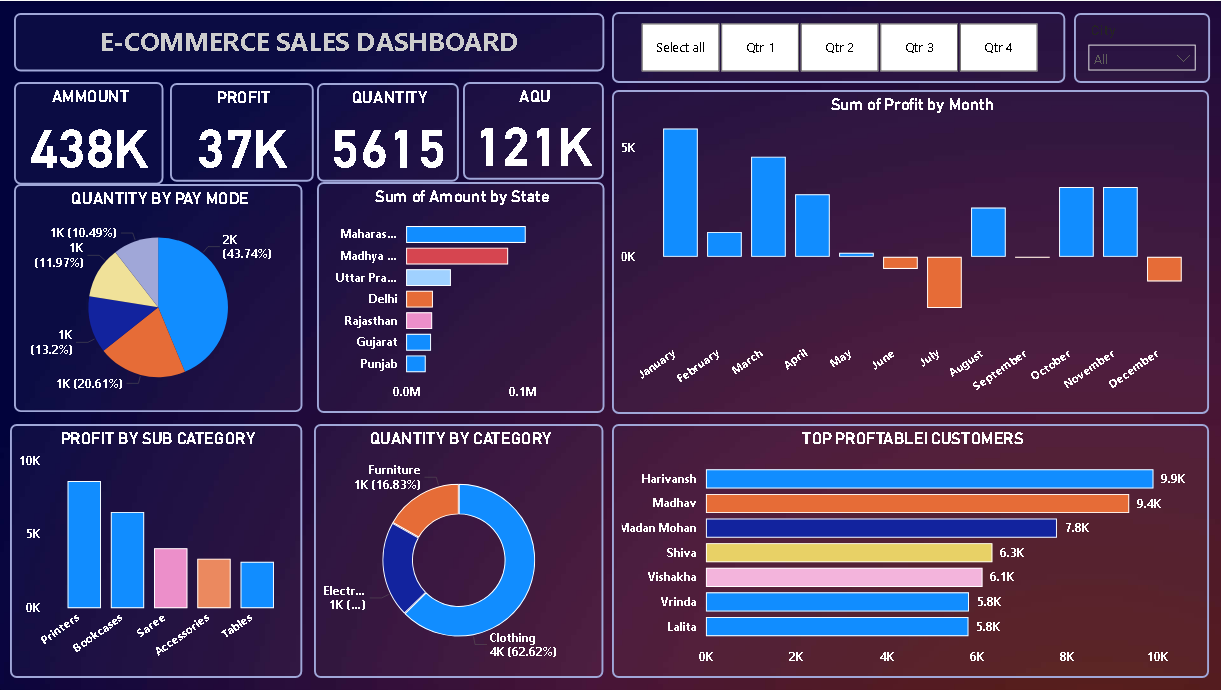

This screenshot's page, from the dashboard's own definition file:
{"tool":"powerbi","page":{"name":"Page 1","canvas":[1280,720],"ordinal":0},"visuals":[{"type":"clusteredColumnChart","title":"PROFIT BY SUB CATEGORY","fields":{"Y":["Sum(Details.Profit)"],"Category":["Details.Sub-Category"]},"box":[11.5,441.1,312.4,265.2],"z":0},{"type":"donutChart","title":"QUANTITY BY  CATEGORY ","fields":{"Y":["Sum(Details.Quantity)"],"Category":["Details.Category"]},"box":[328.9,441.1,302.2,265.2],"z":1000},{"type":"pieChart","title":"QUANTITY BY  PAY MODE","fields":{"Category":["Details.PaymentMode"],"Y":["Sum(Details.Quantity)"]},"box":[15.3,193.8,308.5,238.4],"z":2000},{"type":"clusteredBarChart","fields":{"Category":["Orders.State"],"Y":["Sum(Details.Amount)"]},"box":[331.5,192.5,299.6,241],"z":3000},{"type":"barChart","title":"TOP PROFTABLEI     CUSTOMERS ","fields":{"Category":["Orders.CustomerName"],"Y":["Sum(Details.Amount)"]},"box":[640,441.1,623.4,265.2],"z":4000},{"type":"card","title":"AMMOUNT","fields":{"Values":["Sum(Details.Amount)"]},"box":[15.3,84.1,155.5,102],"z":5000},{"type":"card","title":"PROFIT","fields":{"Values":["Sum(Details.Profit)"]},"box":[177.2,85.4,150.4,100.7],"z":6000},{"type":"card","title":"QUANTITY","fields":{"Values":["Sum(Details.Quantity)"]},"box":[332.7,84.1,147.9,102],"z":7000},{"type":"card","title":"AOV","fields":{"Values":["Sum(Details.Column)"]},"box":[484.5,84.1,146.6,102],"z":8000},{"type":"clusteredColumnChart","fields":{"Y":["Sum(Details.Profit)"],"Category":["Orders.Order Date.Variation.Date Hierarchy.Month"]},"box":[640,93.1,623.4,337.8],"z":9000},{"type":"slicer","fields":{"Values":["Orders.City"]},"box":[1121.9,12.7,141.5,72.7],"z":10000},{"type":"slicer","fields":{"Values":["Orders.Order Date.Variation.Date Hierarchy.Quarter"]},"box":[640,11.5,473,73.9],"z":11000},{"type":"textbox","box":[15.3,12.7,615.8,61.2],"z":12000}]}

Visuals, with their boxes in screenshot pixels (x1, y1, x2, y2), scaled from the page's 1280x720 canvas onto the 1221x690 screenshot:
"PROFIT BY SUB CATEGORY" clusteredColumnChart: 11, 423, 309, 677
"QUANTITY BY  CATEGORY " donutChart: 314, 423, 602, 677
"QUANTITY BY  PAY MODE" pieChart: 15, 186, 309, 414
clusteredBarChart - Orders.State x Sum(Details.Amount): 316, 184, 602, 415
"TOP PROFTABLEI     CUSTOMERS " barChart: 610, 423, 1205, 677
"AMMOUNT" card: 15, 81, 163, 178
"PROFIT" card: 169, 82, 312, 178
"QUANTITY" card: 317, 81, 458, 178
"AOV" card: 462, 81, 602, 178
clusteredColumnChart - Sum(Details.Profit) x Orders.Order Date.Variation.Date Hierarchy.Month: 610, 89, 1205, 413
slicer - Orders.City: 1070, 12, 1205, 82
slicer - Orders.Order Date.Variation.Date Hierarchy.Quarter: 610, 11, 1062, 82
textbox: 15, 12, 602, 71
